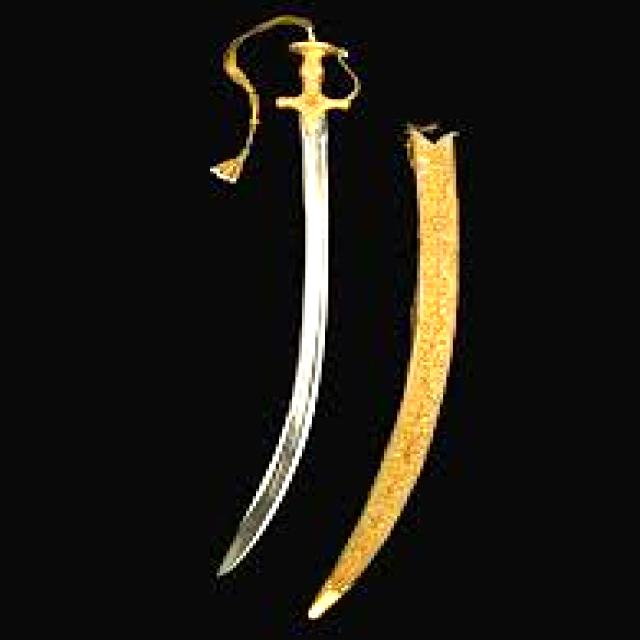long sword: (199, 4, 366, 584)
